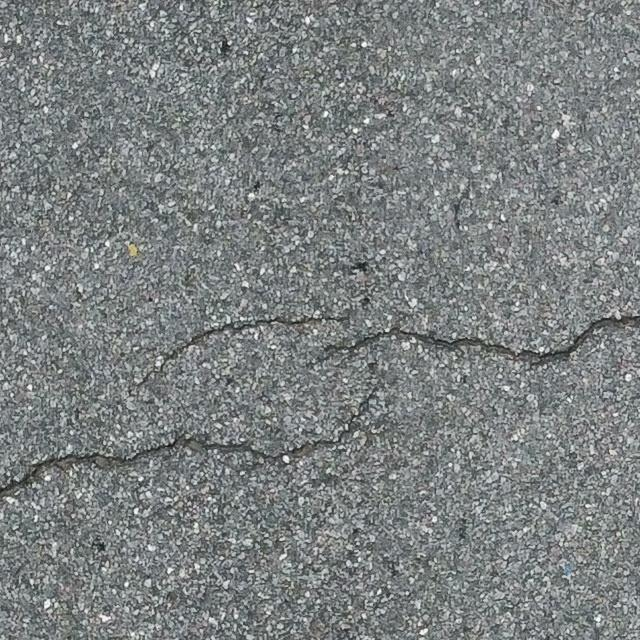TransverseCrack: (1, 314, 640, 496), (134, 313, 351, 388)
